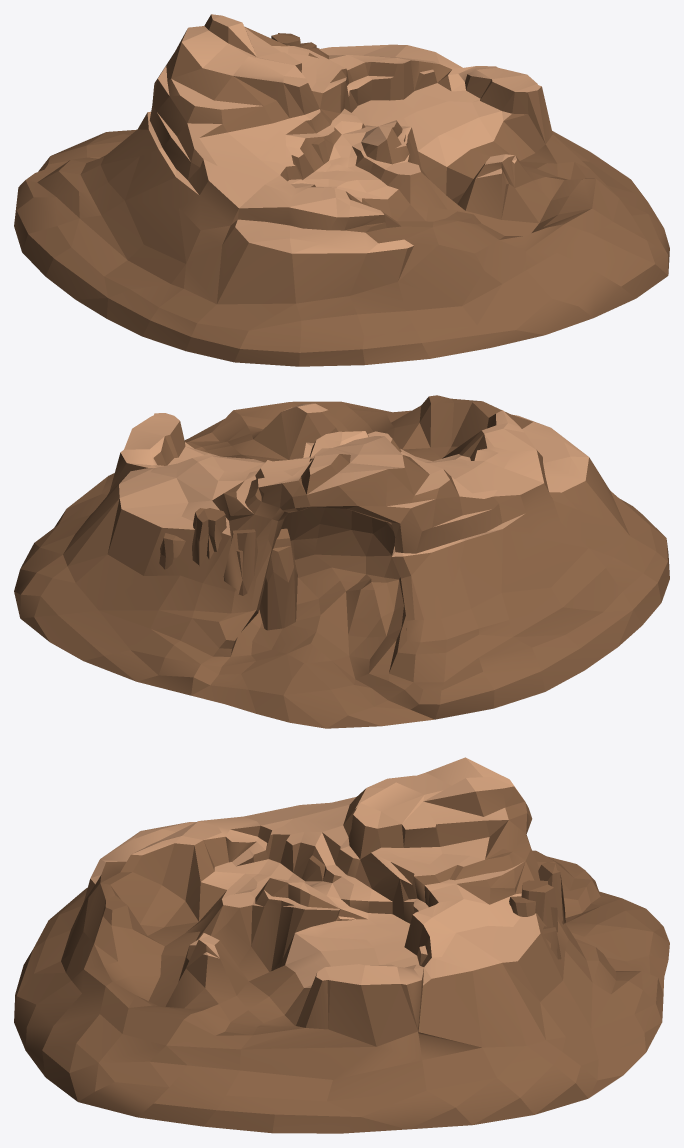
File: Island Flattened Top.fbx
3 renders of one model, top to bottom at view 1: azimuth 30°, elevation 25°; view 2: azimuth 150°, elevation 25°; view 3: azimuth 270°, elevation 25°, orthographic. The views are drawn at different scales.
Parts seen in each view (by area): view 1: island-cave-large_model; view 2: island-cave-large_model; view 3: island-cave-large_model.
Part boxes in pixels (<box>): island-cave-large_model: <box>14,14,669,366</box>; island-cave-large_model: <box>14,395,669,728</box>; island-cave-large_model: <box>14,757,669,1133</box>.
Size of the model in its own units: 27334 by 8799 by 27524.
